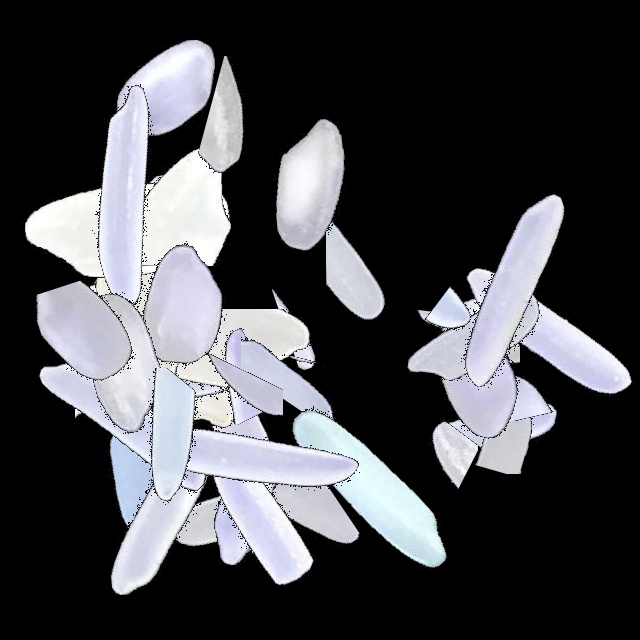Broken: (390, 265, 640, 438), (82, 0, 255, 250), (186, 64, 356, 314), (9, 239, 175, 489), (134, 446, 384, 601), (37, 115, 287, 266), (16, 368, 266, 518), (140, 455, 390, 600), (1, 220, 251, 358), (95, 309, 345, 447), (241, 209, 376, 459), (326, 135, 459, 385), (50, 129, 180, 379), (390, 347, 640, 474), (95, 301, 345, 425), (398, 237, 520, 487), (146, 56, 396, 178), (153, 441, 403, 559), (75, 254, 189, 504), (444, 266, 557, 516), (171, 299, 283, 549), (382, 313, 632, 421), (371, 312, 478, 562), (386, 241, 493, 491), (270, 150, 375, 400), (39, 454, 289, 553), (65, 173, 160, 423), (144, 94, 223, 344), (252, 270, 329, 520), (346, 283, 596, 358)
Full: (28, 239, 278, 489), (116, 390, 366, 640), (0, 136, 250, 386), (96, 281, 346, 531), (18, 358, 268, 608), (45, 226, 295, 476), (37, 390, 287, 640), (41, 247, 291, 497), (0, 296, 250, 546), (135, 390, 385, 640), (349, 256, 599, 506), (13, 184, 263, 434), (350, 210, 600, 460), (0, 105, 250, 355), (390, 167, 640, 417), (249, 362, 499, 612), (52, 183, 302, 433), (1, 73, 251, 323), (0, 238, 250, 488), (125, 333, 375, 583)
